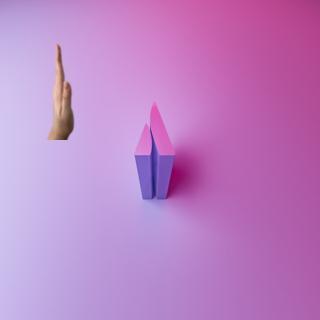Right: (46, 32, 83, 137)
